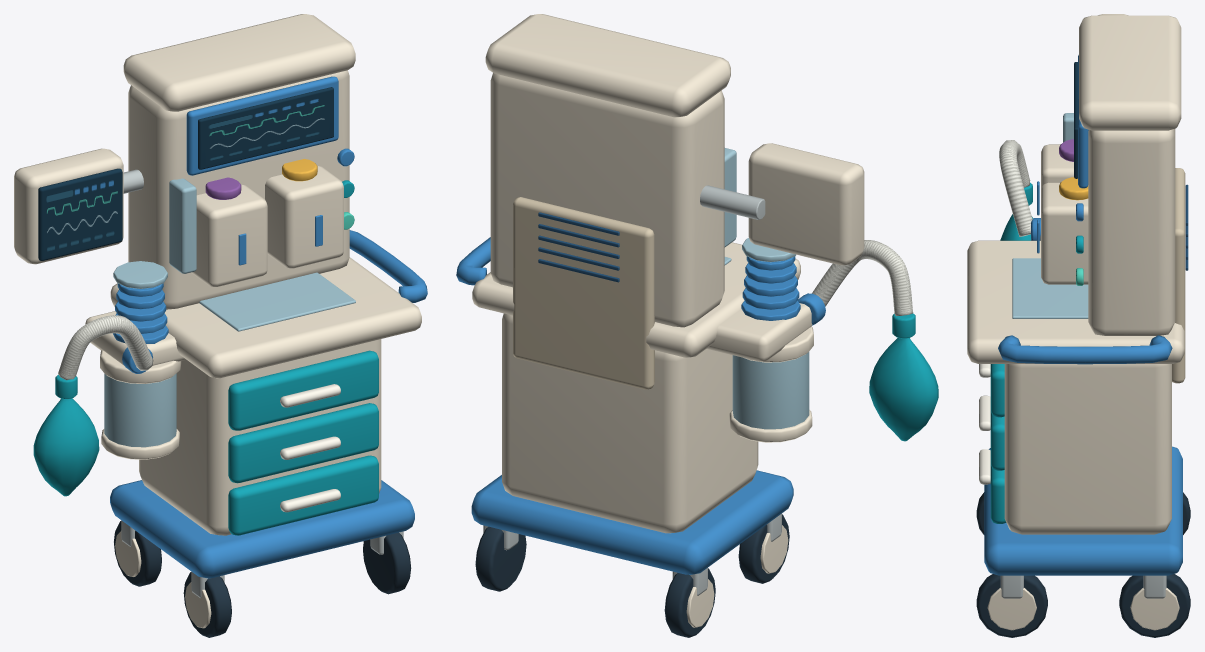
Rendered from medical-01.glb.
The picture shows the model from 3 angles, left to right: view 1: azimuth 30°, elevation 25°; view 2: azimuth 150°, elevation 25°; view 3: azimuth 270°, elevation 25°; orthographic projection. The views are drawn at different scales.
Parts seen in each view (by area): view 1: Fixed_Assembly_Plastic, Drawer_3_Plastic, Drawer_1_Plastic, Drawer_2_Plastic, Vaporizer_amber_Plastic, Vaporizer_purple_Plastic, Ventilator_control_display_Plastic, Side_ventilator_control_Plastic, Fixed_Assembly_Soft, Reservoir_Bag_Soft, Breathing_Hose_Plastic, Fixed_Assembly_Metal; view 2: Fixed_Assembly_Plastic, Fixed_Assembly_Soft, Reservoir_Bag_Soft, Breathing_Hose_Plastic, Fixed_Assembly_Metal; view 3: Fixed_Assembly_Plastic, Vaporizer_amber_Plastic, Fixed_Assembly_Soft, Breathing_Hose_Plastic, Vaporizer_purple_Plastic, Drawer_1_Plastic, Drawer_2_Plastic, Fixed_Assembly_Metal, Drawer_3_Plastic, Reservoir_Bag_Soft.
Part boxes in pixels (x1=…): Fixed_Assembly_Plastic: x1=14, y1=14, x2=427, y2=628; Drawer_3_Plastic: x1=228, y1=350, x2=378, y2=430; Drawer_1_Plastic: x1=228, y1=455, x2=378, y2=535; Drawer_2_Plastic: x1=228, y1=403, x2=378, y2=483; Vaporizer_amber_Plastic: x1=265, y1=159, x2=343, y2=268; Vaporizer_purple_Plastic: x1=191, y1=177, x2=267, y2=286; Ventilator_control_display_Plastic: x1=205, y1=94, x2=329, y2=164; Side_ventilator_control_Plastic: x1=44, y1=175, x2=120, y2=257; Fixed_Assembly_Soft: x1=114, y1=521, x2=411, y2=637; Reservoir_Bag_Soft: x1=33, y1=398, x2=99, y2=496; Breathing_Hose_Plastic: x1=58, y1=315, x2=153, y2=380; Fixed_Assembly_Metal: x1=121, y1=169, x2=403, y2=597; Fixed_Assembly_Plastic: x1=456, y1=14, x2=915, y2=627; Fixed_Assembly_Soft: x1=475, y1=514, x2=789, y2=637; Reservoir_Bag_Soft: x1=869, y1=338, x2=938, y2=441; Breathing_Hose_Plastic: x1=812, y1=240, x2=913, y2=315; Fixed_Assembly_Metal: x1=483, y1=185, x2=781, y2=595; Fixed_Assembly_Plastic: x1=967, y1=14, x2=1188, y2=630; Vaporizer_amber_Plastic: x1=1037, y1=177, x2=1088, y2=284; Fixed_Assembly_Soft: x1=976, y1=492, x2=1190, y2=637; Breathing_Hose_Plastic: x1=999, y1=140, x2=1032, y2=236; Vaporizer_purple_Plastic: x1=1037, y1=139, x2=1073, y2=215; Drawer_1_Plastic: x1=979, y1=449, x2=1006, y2=523; Drawer_2_Plastic: x1=979, y1=395, x2=1004, y2=470; Fixed_Assembly_Metal: x1=1000, y1=575, x2=1166, y2=598; Drawer_3_Plastic: x1=979, y1=364, x2=1004, y2=417; Reservoir_Bag_Soft: x1=1000, y1=214, x2=1032, y2=240.
Size of the model in its own units: 1.49 by 1.89 by 0.72.
Materials: 3 (3 with a texture image).
